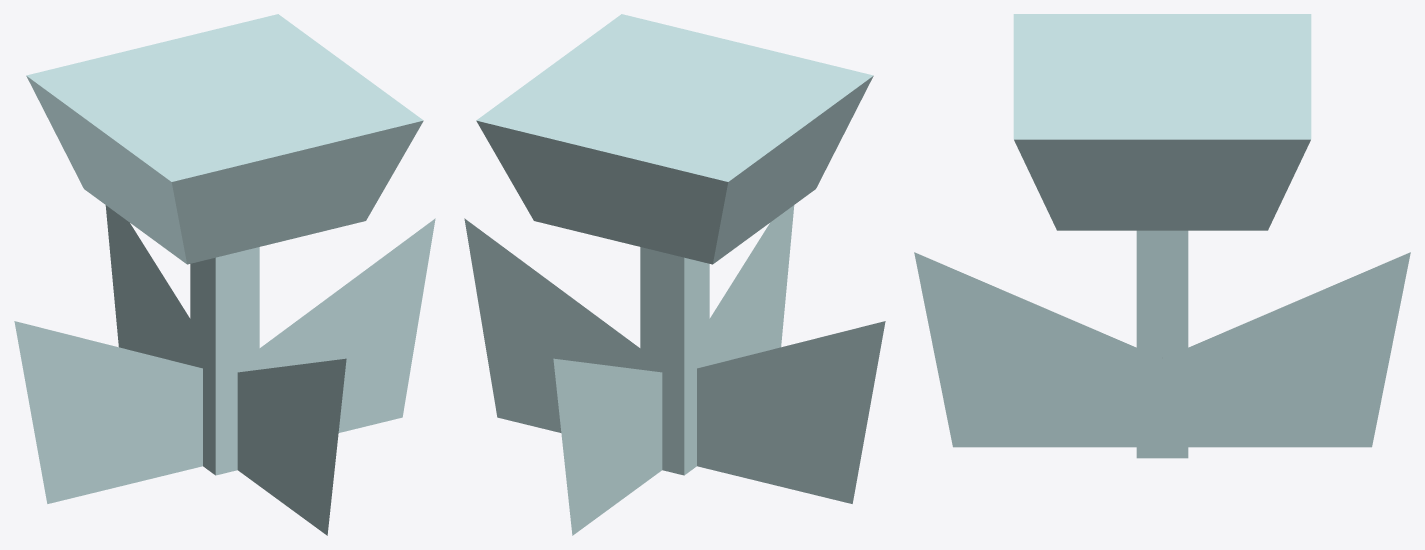
Rendered from naturePack_flat_009.fbx.
The picture shows the model from 3 angles, left to right: view 1: azimuth 30°, elevation 25°; view 2: azimuth 150°, elevation 25°; view 3: azimuth 270°, elevation 25°; orthographic projection. The views are drawn at different scales.
Visible parts, largest first — view 1: naturePack_flat_009; view 2: naturePack_flat_009; view 3: naturePack_flat_009.
Part boxes in pixels (bbox=[...]): naturePack_flat_009: bbox=[14, 14, 435, 535]; naturePack_flat_009: bbox=[464, 14, 885, 535]; naturePack_flat_009: bbox=[914, 14, 1410, 458].
Bounding box in the file's own units: 48.59 × 40 × 48.59.
